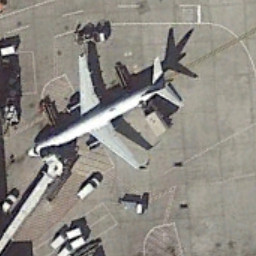Airplane: (19, 36, 197, 173)
